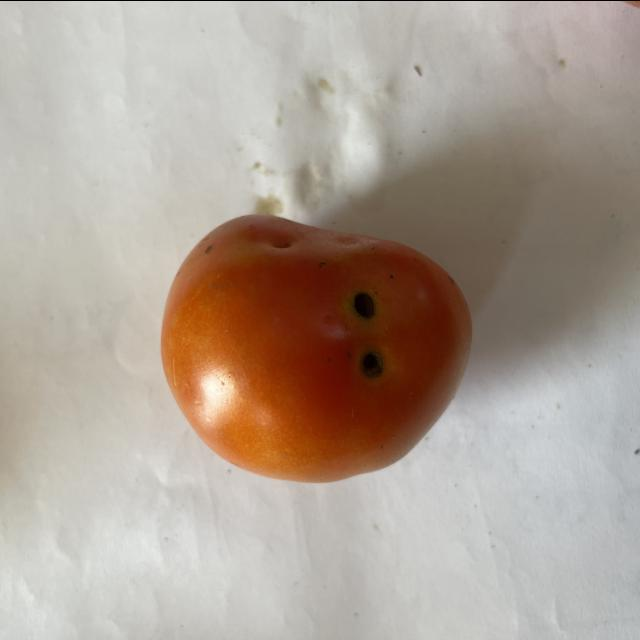fruitworm_bore: (346, 284, 391, 390)
